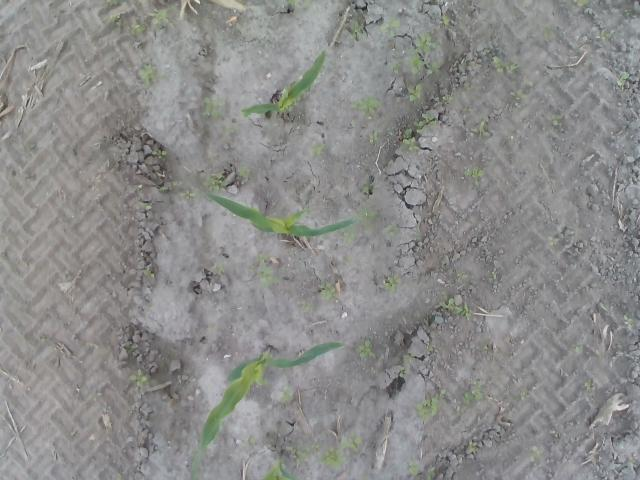Maize: (192, 341, 342, 480), (204, 191, 360, 237), (242, 50, 326, 118), (260, 452, 301, 480), (286, 1, 296, 14)
Weeds: (322, 433, 362, 470), (409, 30, 440, 77), (412, 396, 439, 424), (352, 96, 382, 121), (255, 253, 275, 290), (412, 108, 440, 134), (490, 55, 522, 77), (439, 300, 472, 320), (201, 96, 226, 120), (354, 208, 382, 226), (400, 126, 420, 150), (352, 12, 369, 40), (207, 174, 230, 193), (468, 118, 492, 136), (297, 442, 321, 460), (380, 19, 400, 40), (147, 6, 169, 24), (464, 385, 487, 401), (356, 338, 372, 359), (399, 354, 414, 376), (319, 282, 336, 301), (130, 366, 146, 385), (406, 81, 420, 102), (138, 64, 156, 80), (382, 223, 401, 238), (510, 88, 530, 102), (462, 166, 484, 178), (464, 438, 480, 454), (280, 385, 294, 403), (529, 444, 542, 463), (367, 130, 383, 145), (384, 276, 401, 290), (614, 71, 628, 87), (389, 60, 403, 76), (135, 200, 153, 212), (149, 147, 168, 158), (342, 231, 358, 244), (310, 142, 323, 158), (130, 22, 146, 34), (179, 190, 197, 200), (441, 93, 456, 105), (408, 463, 422, 475), (552, 112, 562, 126), (144, 269, 156, 280), (426, 467, 436, 480), (572, 0, 590, 7), (600, 31, 612, 41), (438, 15, 450, 25), (238, 167, 250, 177), (582, 379, 591, 391), (109, 15, 121, 24), (160, 184, 170, 194), (248, 435, 256, 447), (128, 343, 138, 352), (217, 263, 225, 274), (489, 270, 496, 282), (104, 0, 120, 5), (574, 346, 584, 354), (134, 184, 144, 192), (624, 9, 635, 16), (439, 388, 448, 396), (584, 8, 592, 16), (456, 271, 464, 278)
